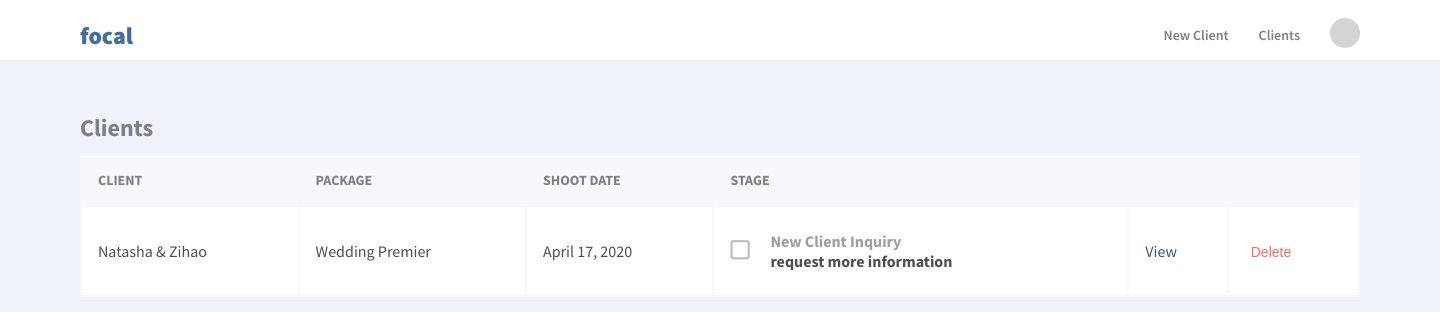
Test: Workflow Flow › renders next incomplete todo after hitting an todo checkmark on Clients Page
Expected: the text "request more information" is shown, [770,251,952,271]
Click the element with test id "todo-checkmark".
click(841, 251)  # box [730,231,952,271]
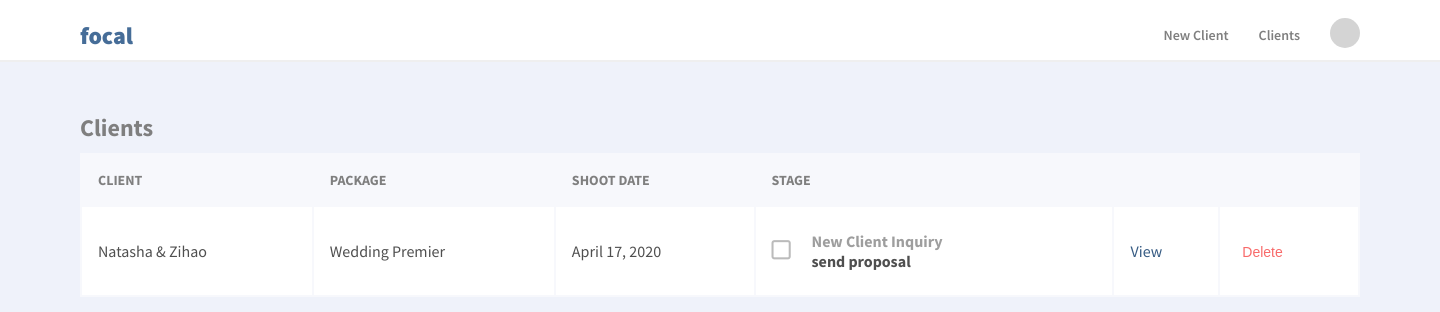
Expected: the text "send proposal" is shown, [812,251,911,271]
